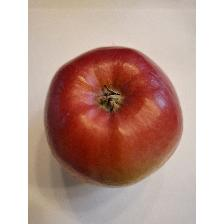Apfel: (42, 40, 188, 190)
